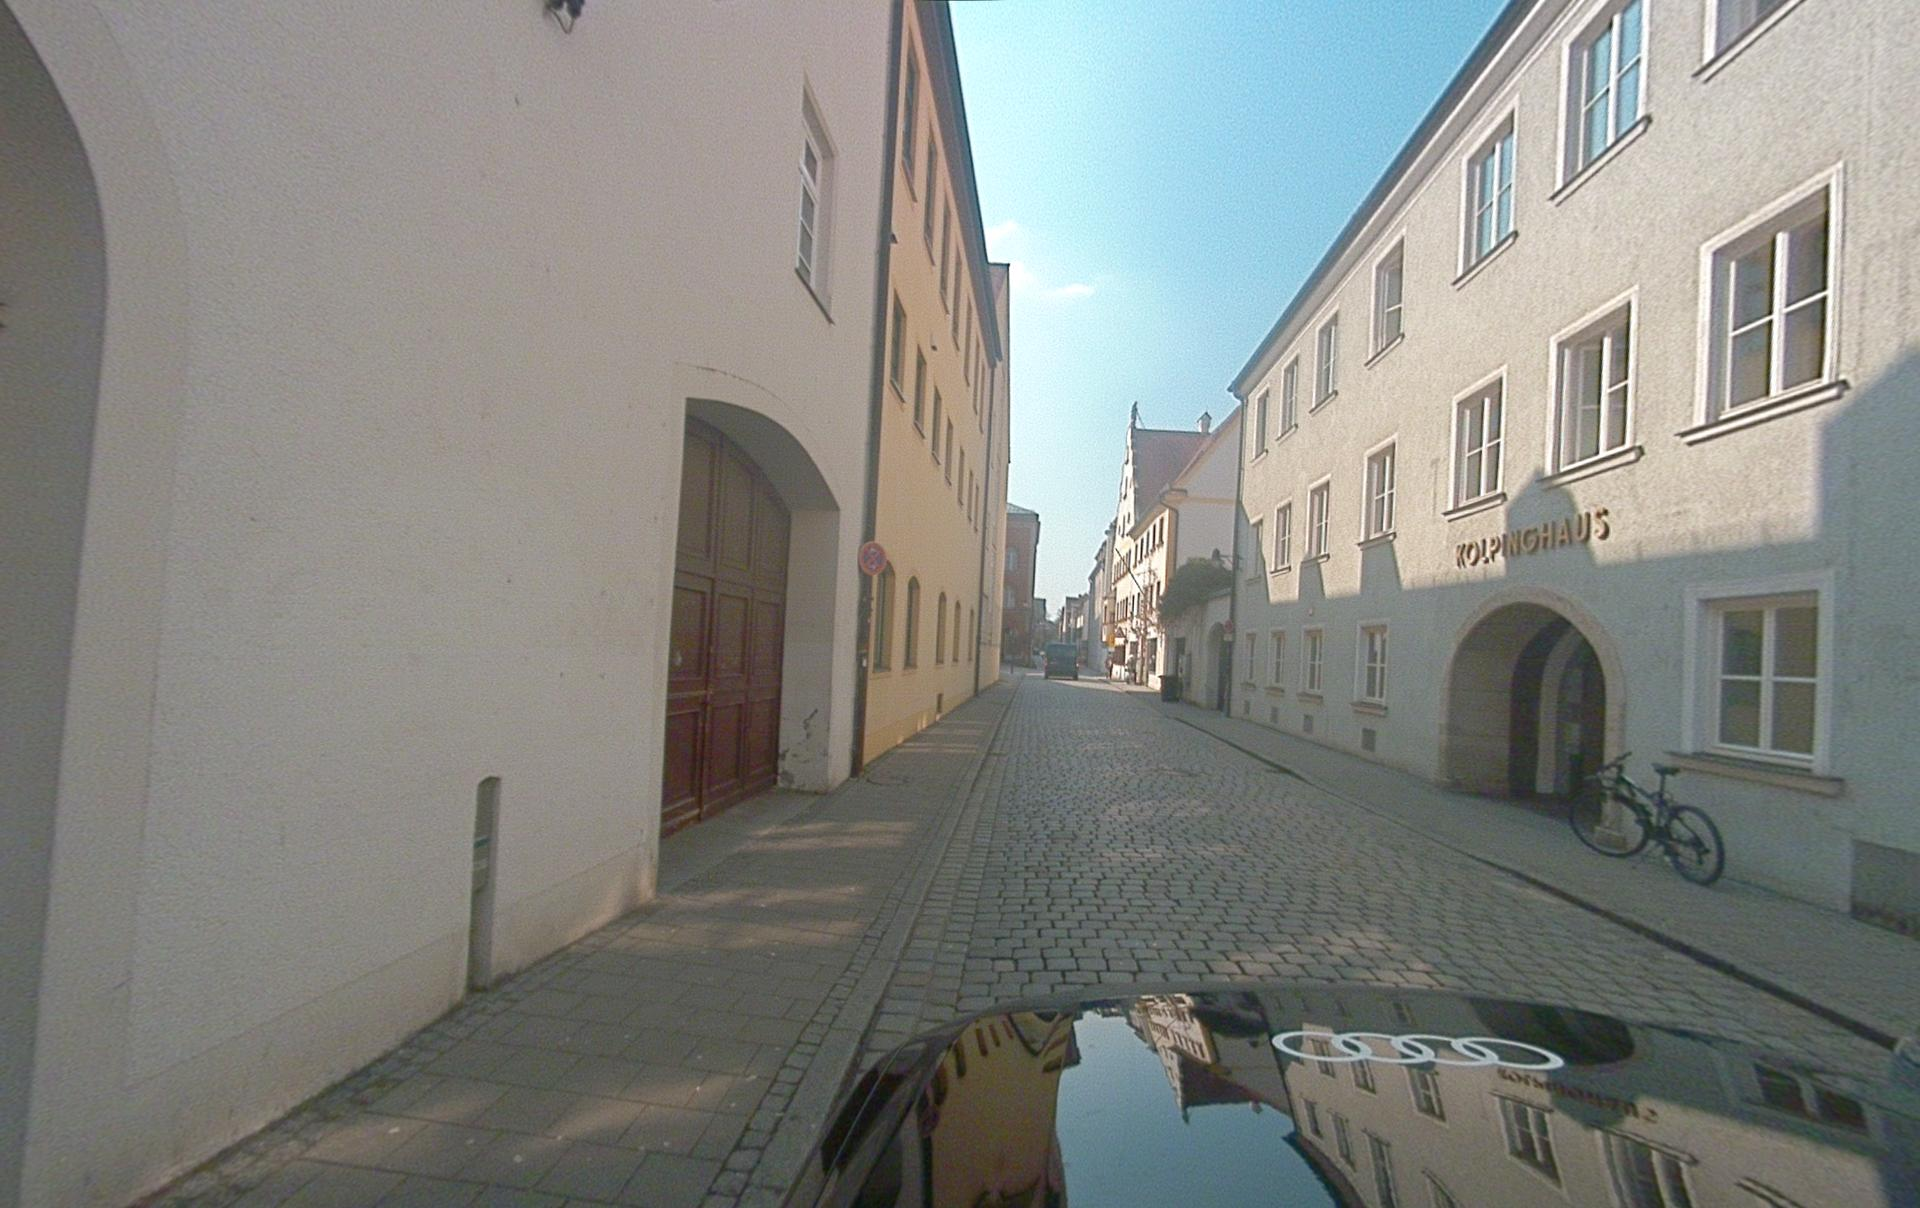car: (779, 983, 1919, 1207), (1043, 643, 1078, 681)
traffic sign: (857, 540, 888, 578)
